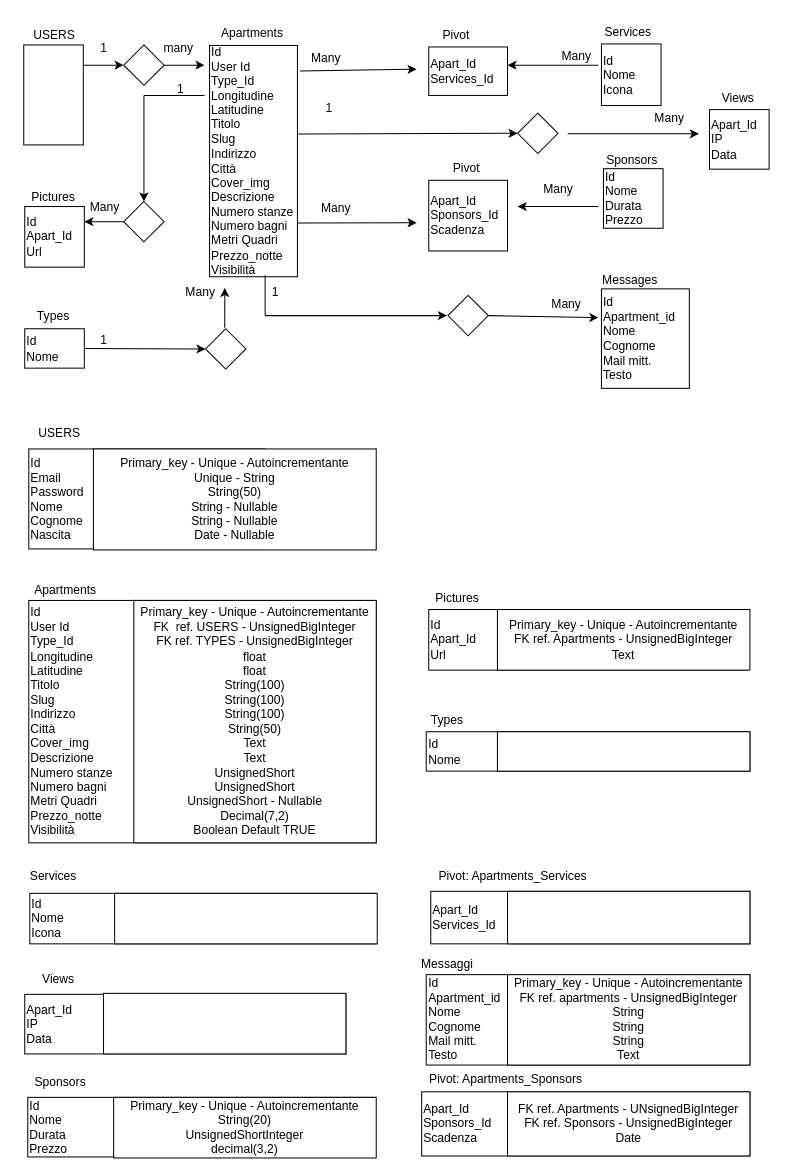
The diagram is 787 pixels wide and 1176 high, and some of its shapes have lost their labels. Here are the shapes that lost their labels. From the top down, the centre of each, then its label:
At (53,94): "Id Email Pasword Nome Cognome Nascita".
At (623,751): "Primary_key - Unique - Autoincrementante String(50)".
At (245,918): "Primary_key - Unique - Autoincrementante String(50) String(50)".
At (628,917): "FK ref. apartments - UnsignedBigInteger FK ref. services -UnsignedBigInteger".
At (224,1023): "FK ref. Apartments - UnsignedBigInteger String(20) Date".
